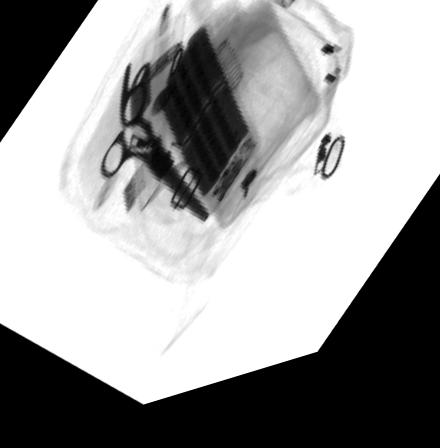Lighter: (260, 0, 307, 31)
Powerbank: (148, 29, 260, 223)
Scissors: (98, 61, 212, 239)
Sprayer: (141, 15, 188, 221)
